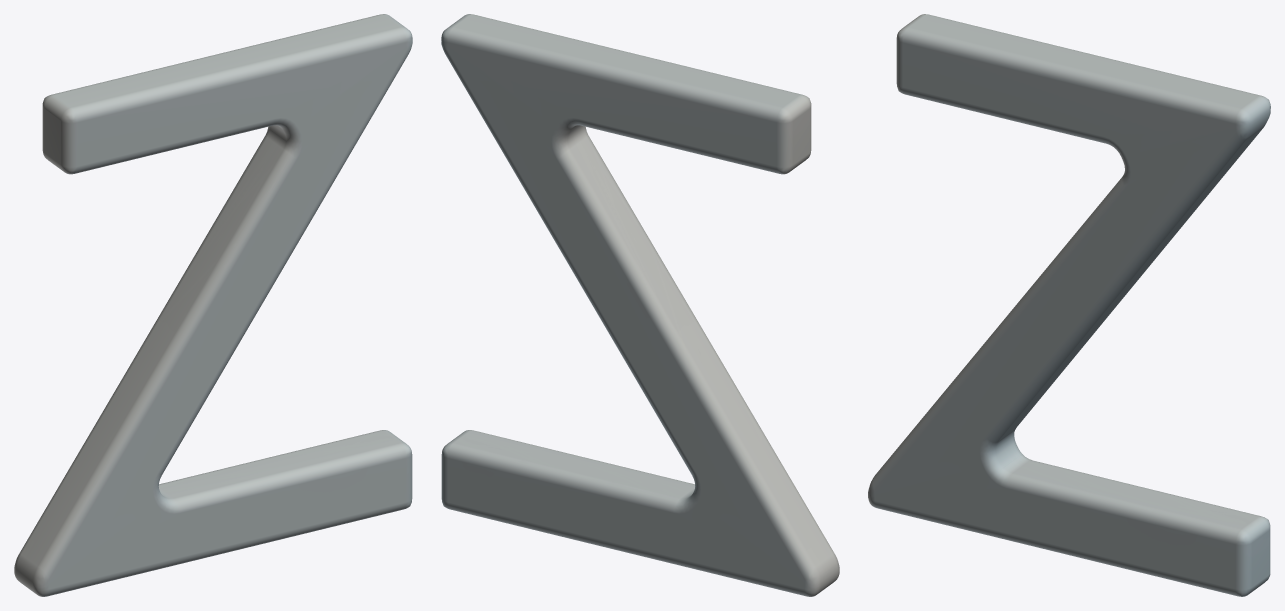
File: modelZ.glb
The picture shows the model from 3 angles, left to right: view 1: azimuth 30°, elevation 25°; view 2: azimuth 150°, elevation 25°; view 3: azimuth 330°, elevation 25°; orthographic projection.
Visible parts, largest first — view 1: z.1; view 2: z.1; view 3: z.1.
Part boxes in pixels (bbox=[...]): z.1: bbox=[14, 14, 412, 596]; z.1: bbox=[441, 14, 839, 596]; z.1: bbox=[868, 14, 1270, 596].
Bounding box in the file's own units: 0.1693 × 0.2062 × 0.0219.
Materials: 1 (1 with a texture image).
